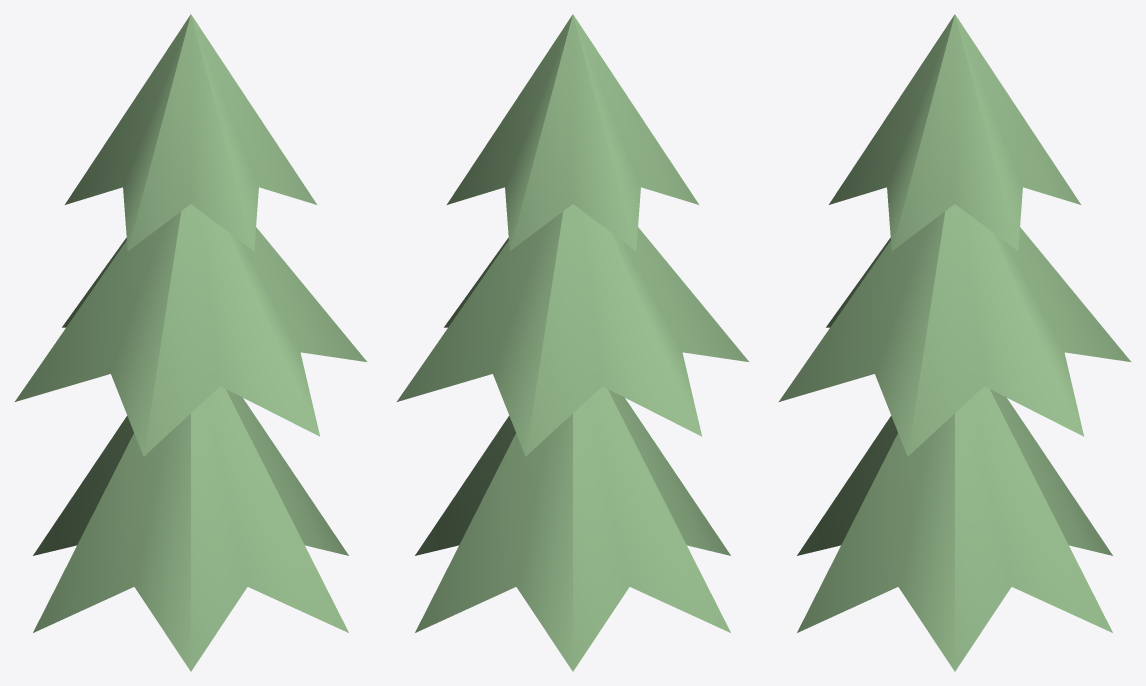
Rendered from tree-pine-a-crown-far.glb.
3 renders of one model, left to right at view 1: azimuth 30°, elevation 25°; view 2: azimuth 150°, elevation 25°; view 3: azimuth 270°, elevation 25°, orthographic.
Visible parts, largest first — view 1: tree-pine-a-crown-far; view 2: tree-pine-a-crown-far; view 3: tree-pine-a-crown-far.
Boxes of the visible parts, bbox=[...] form: tree-pine-a-crown-far: bbox=[15, 14, 367, 671]; tree-pine-a-crown-far: bbox=[397, 14, 749, 671]; tree-pine-a-crown-far: bbox=[779, 14, 1131, 671].
Bounding box in the file's own units: 0.312 × 0.5467 × 0.3014.
